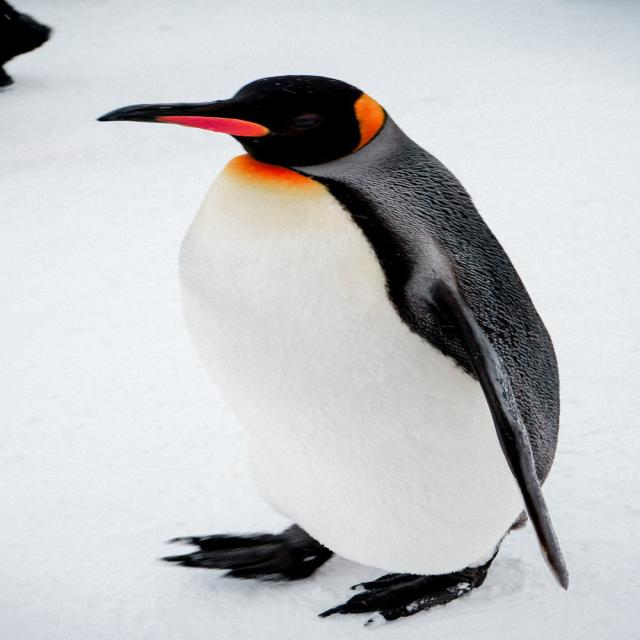penguin: (99, 76, 567, 624)
